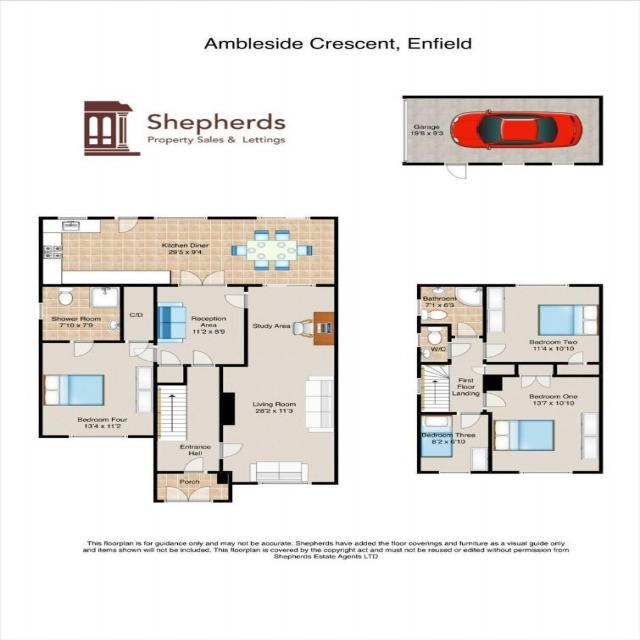DOOR: (68, 340, 95, 358), (219, 441, 244, 460), (224, 291, 249, 310), (454, 321, 480, 339), (190, 349, 216, 367), (448, 341, 473, 359), (482, 342, 507, 360), (458, 411, 482, 429), (133, 345, 157, 363), (183, 457, 208, 474), (117, 215, 139, 234), (482, 392, 507, 408)
ROOM: (219, 284, 339, 485), (38, 216, 339, 287), (482, 362, 603, 474), (38, 340, 158, 438), (482, 284, 604, 365), (153, 284, 249, 367), (417, 412, 493, 474)
WINDOW: (67, 435, 130, 439), (514, 283, 571, 287), (152, 216, 209, 220), (257, 481, 313, 485), (255, 216, 311, 220), (438, 470, 472, 475), (518, 471, 574, 474), (57, 215, 89, 220), (416, 298, 422, 317), (416, 378, 422, 395), (416, 332, 422, 348), (38, 302, 43, 320)
